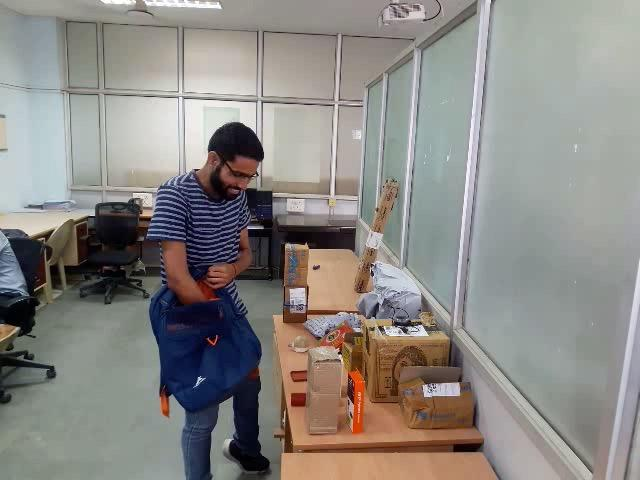shoplifting: (119, 236, 281, 433)
